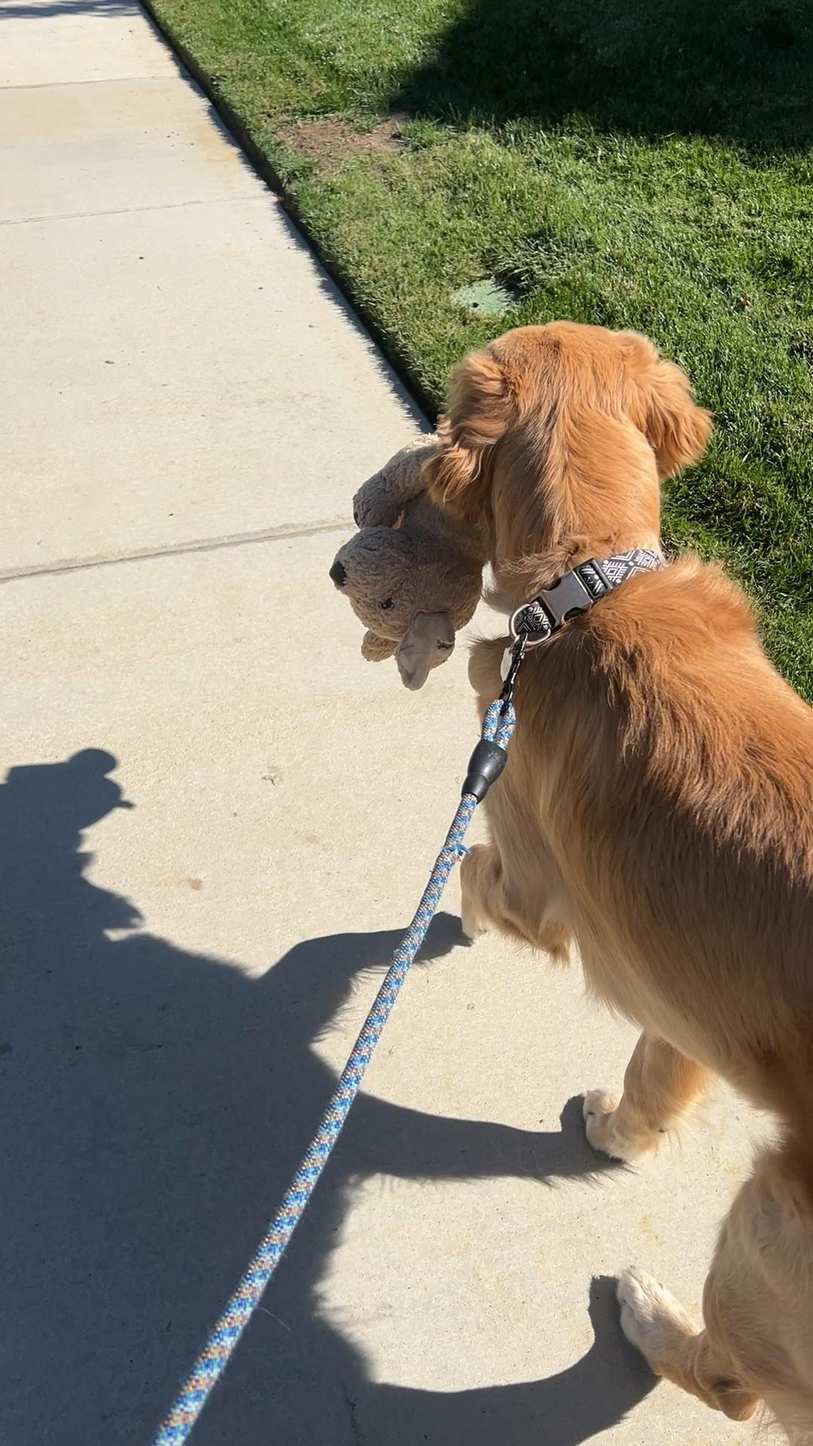adult_dog: (420, 315, 813, 1444)
non-dog: (328, 432, 489, 693)
